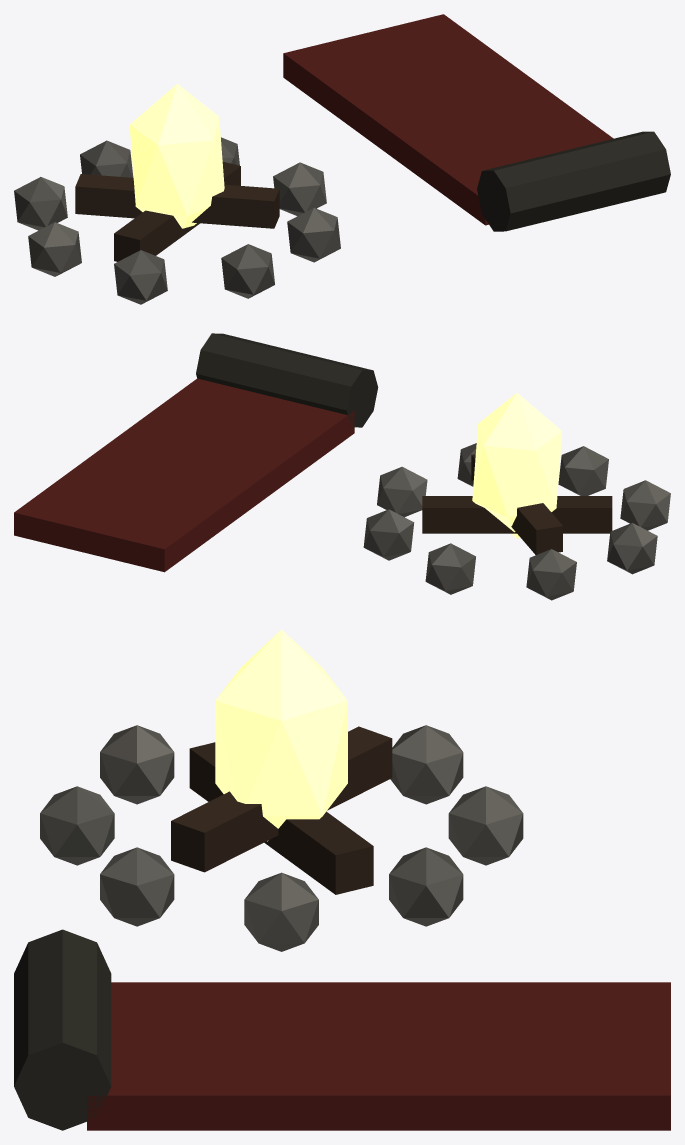
The model's file is camp.glb.
The picture shows the model from 3 angles, top to bottom: view 1: azimuth 30°, elevation 25°; view 2: azimuth 150°, elevation 25°; view 3: azimuth 270°, elevation 25°; orthographic projection. The views are drawn at different scales.
Visible parts, largest first — view 1: Camp; view 2: Camp; view 3: Camp.
Part boxes in pixels (x1,y1,x2,y2): Camp: [14, 14, 670, 304]; Camp: [14, 333, 670, 600]; Camp: [14, 629, 670, 1130].
Bounding box in the file's own units: 1.88 × 0.536 × 1.35.
